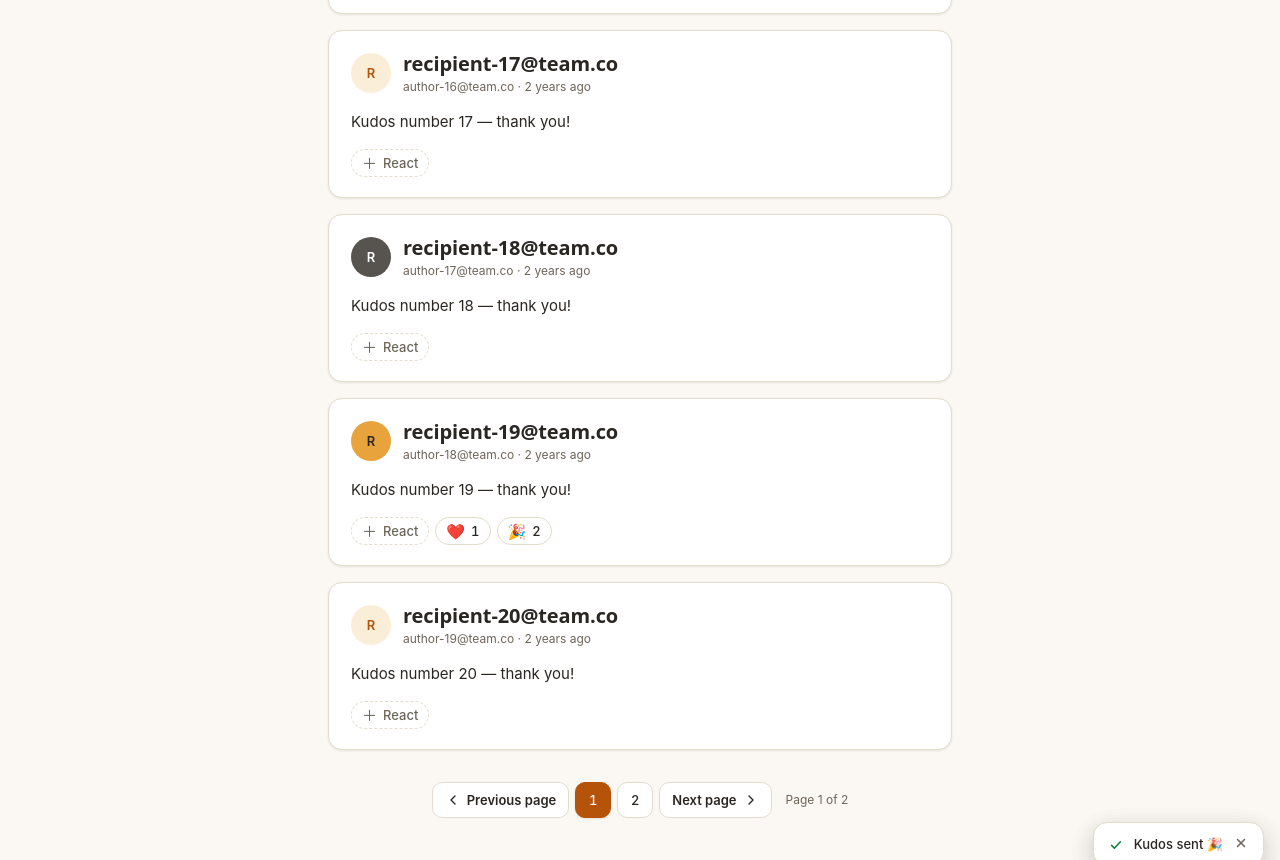
board client guard rails › shows an inline error with Try again when a page fetch fails, and keeps serving kudos
(page scrolled)
Click the link with test id "pagination-page-2" at (635, 800), box [617,782,653,818]
(page scrolled)
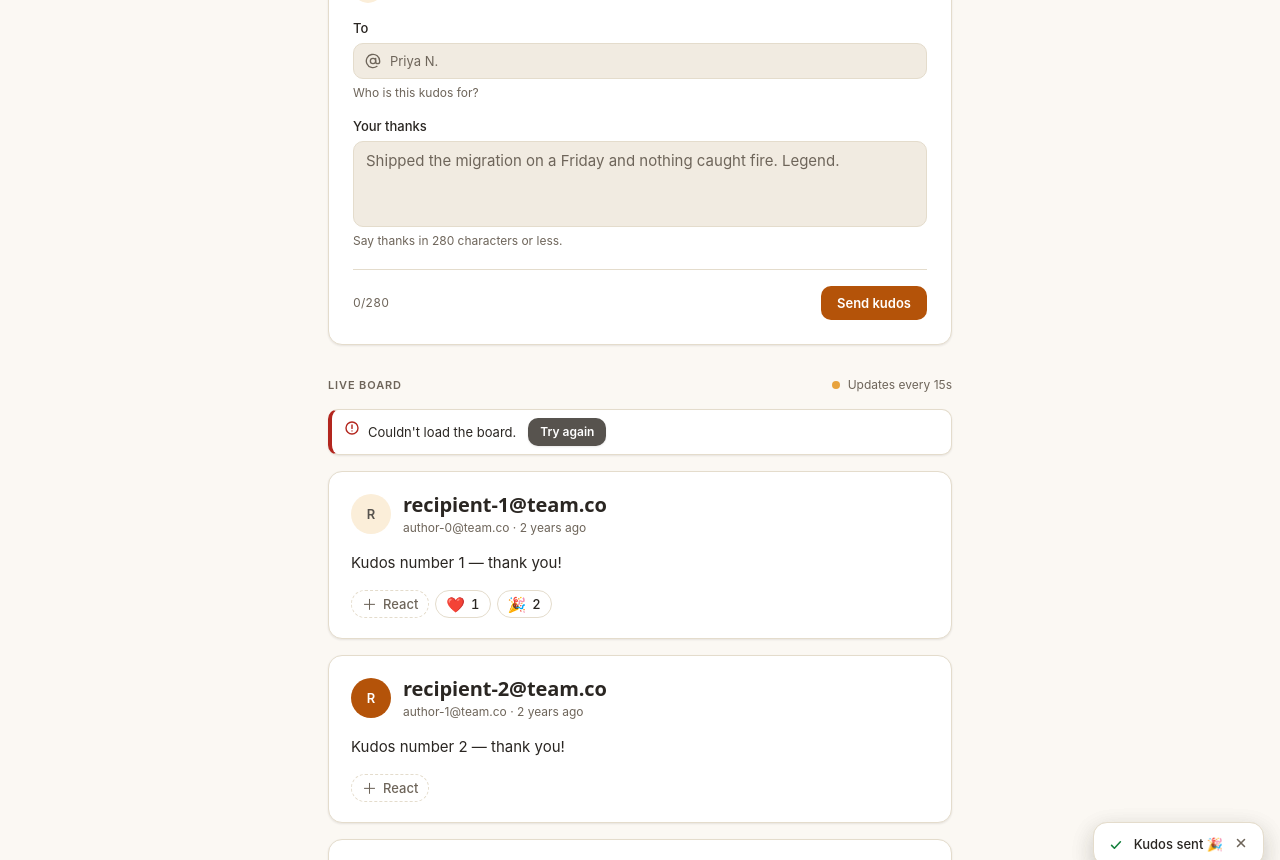
Expected: the message "Couldn't load the board. Try again" is shown, [328,409,952,455]
Expected: the button with test id "board-retry" is shown
Click the button with test id "board-retry" at (567, 432), box [528,418,606,446]
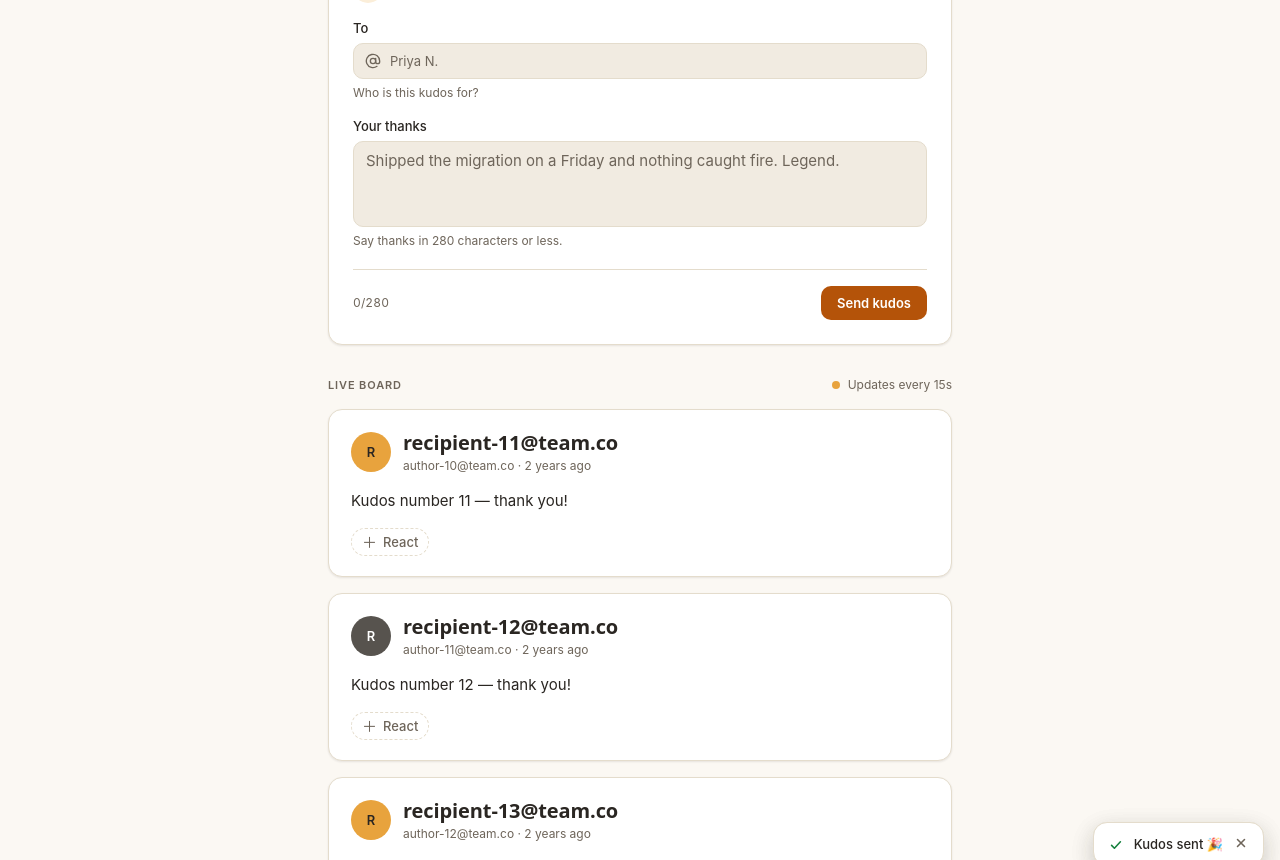
Expected: the message with test id "board-error" is gone
